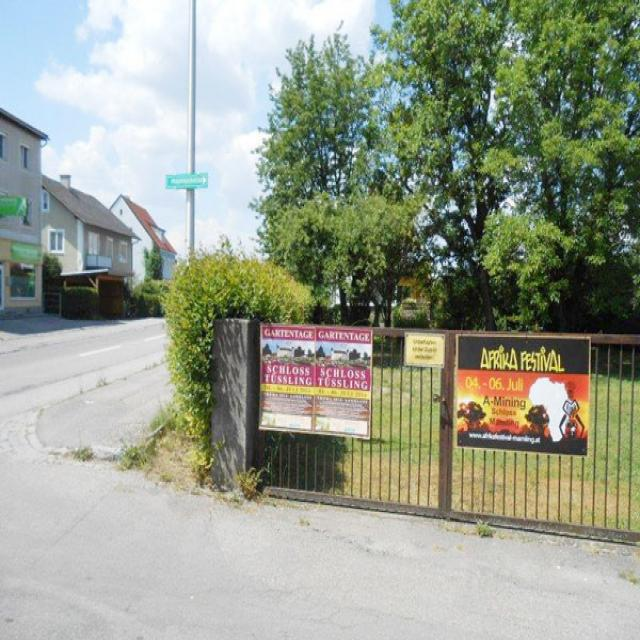Werbetafel frei: (455, 331, 593, 457), (256, 324, 374, 441)
